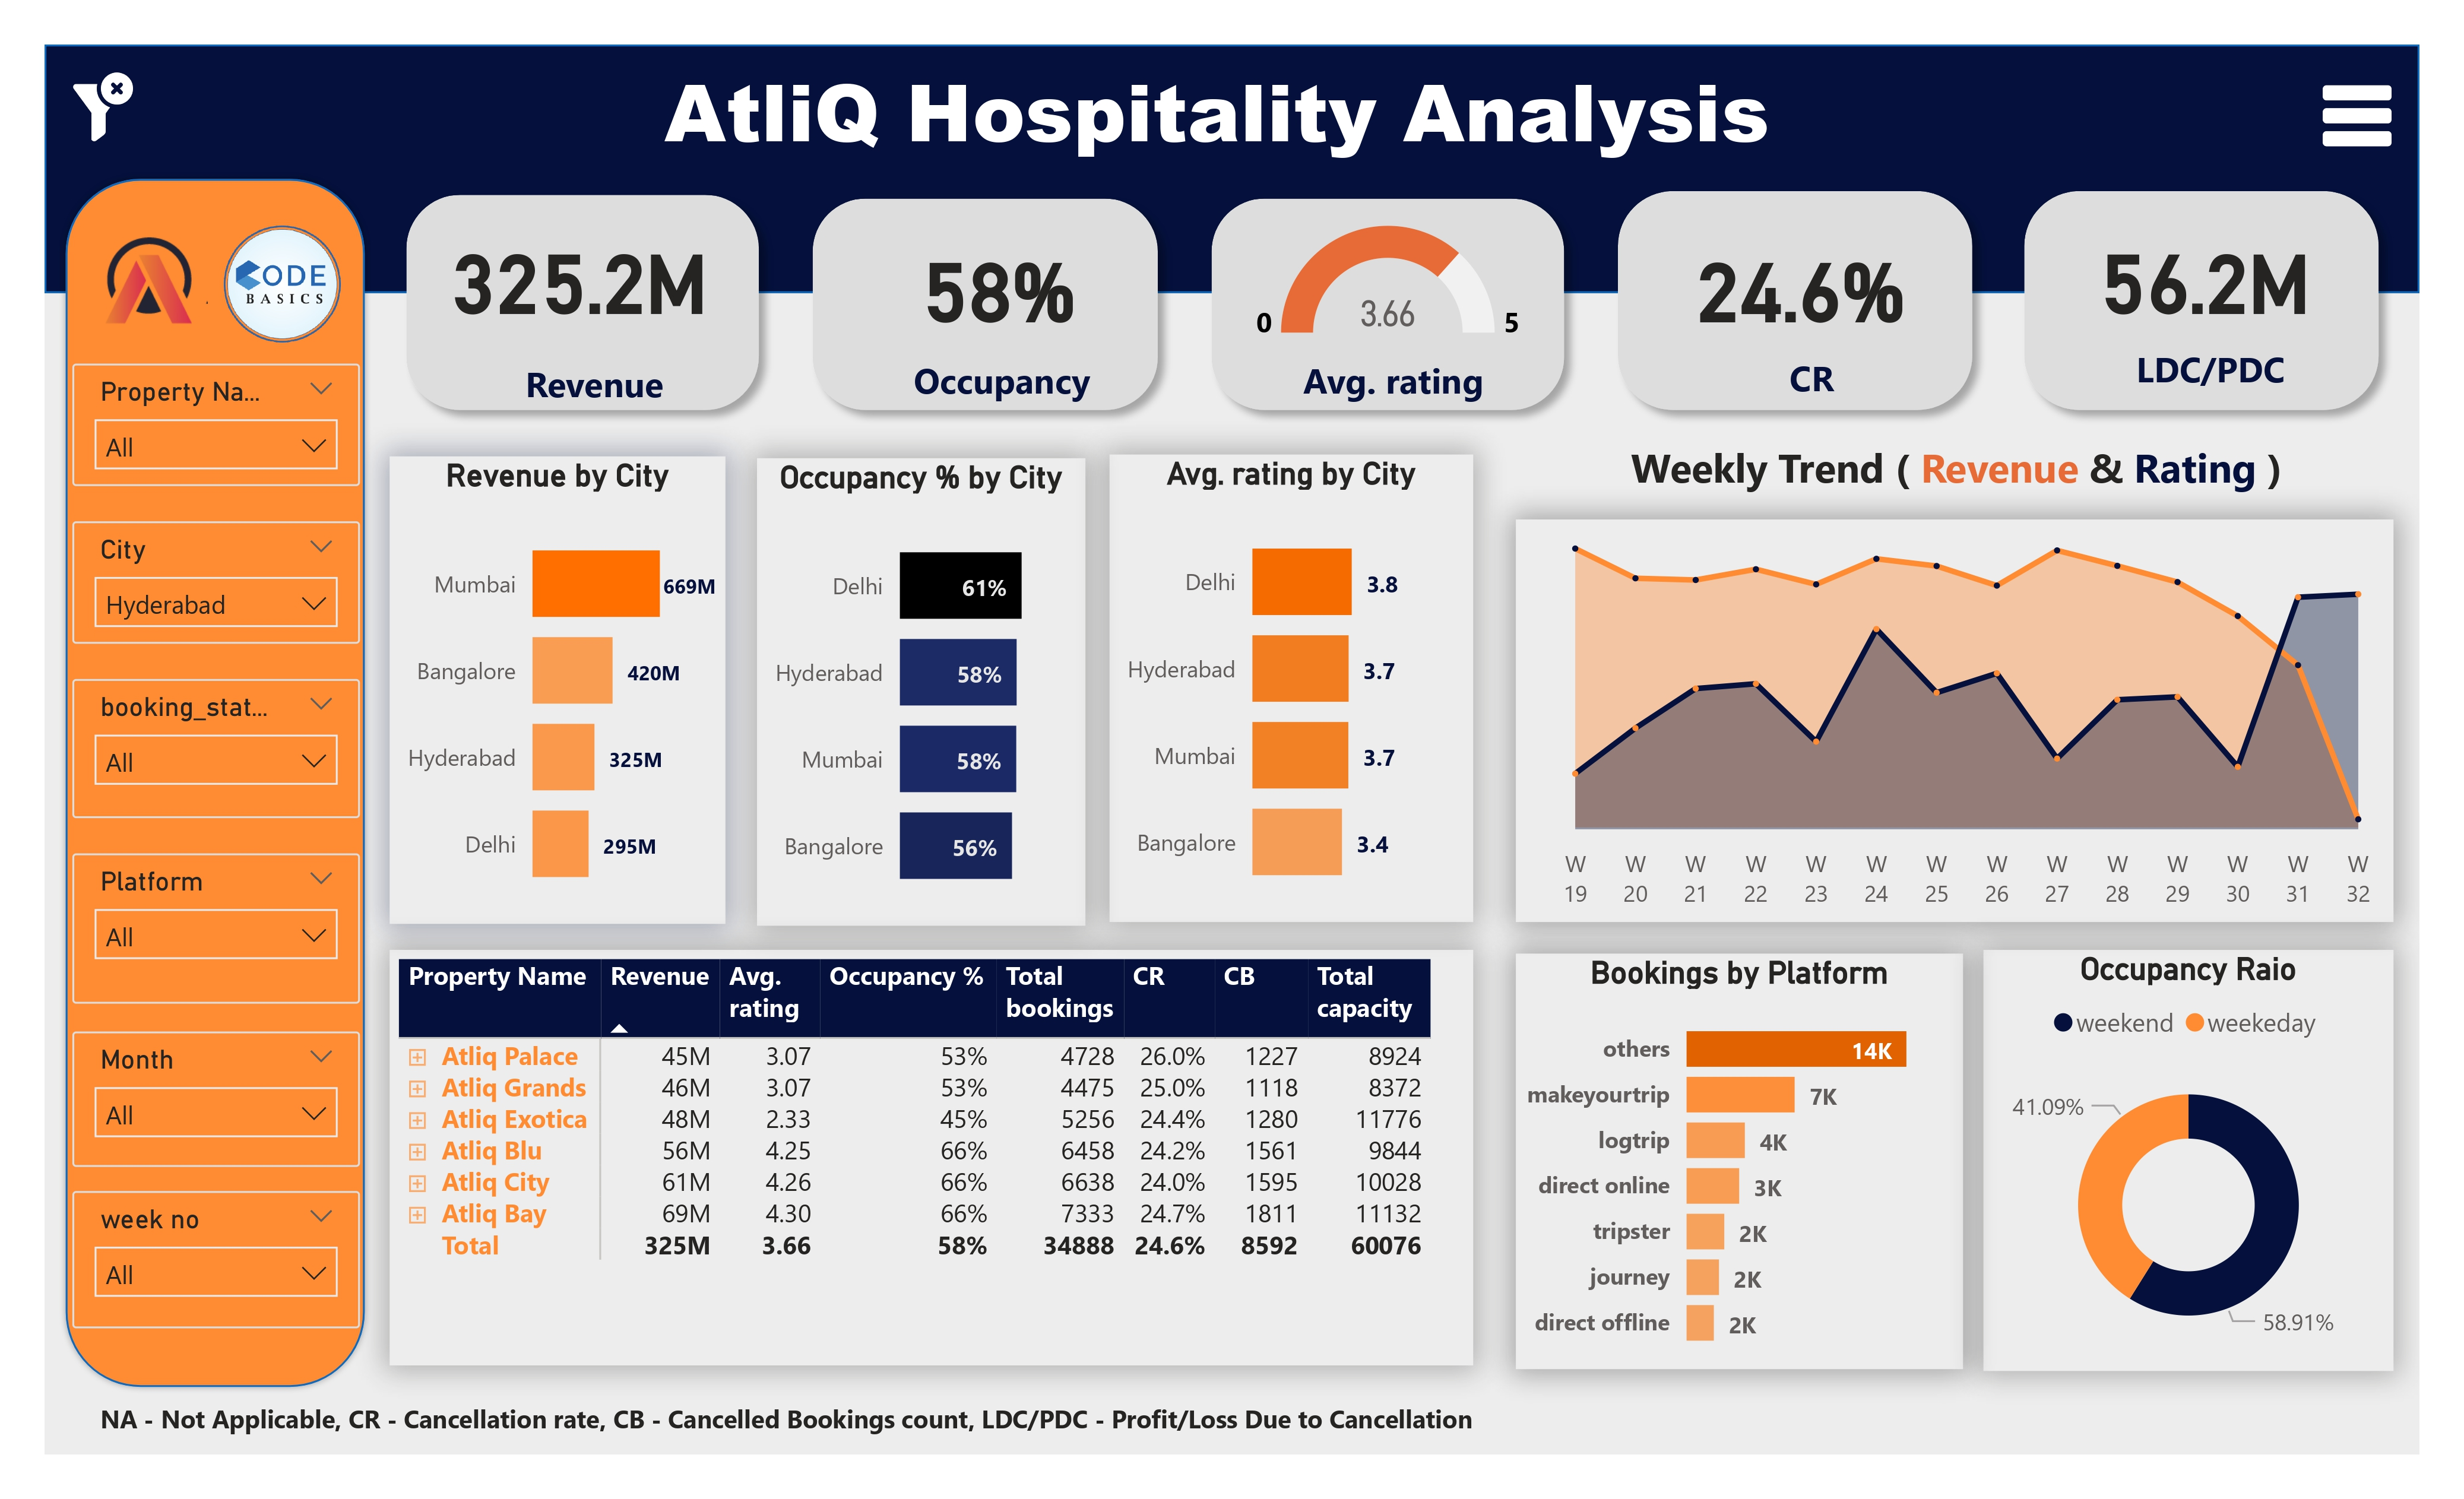

What the dashboard file says about the page in this screenshot:
{"tool":"powerbi","page":{"name":"Overall","canvas":[1280,760],"ordinal":0},"visuals":[{"type":"shape","box":[0,0,1280,134.4],"z":0},{"type":"textbox","box":[0,0,1278.1,75.7],"z":0,"group":"g1"},{"type":"group","id":"g1","title":"visuals","box":[0,0,1278.1,727],"z":1000},{"type":"shape","box":[1058.5,70.1,208.3,136.3],"z":1000,"group":"g1"},{"type":"shape","box":[839.3,70.1,208.3,136.3],"z":2000,"group":"g1"},{"type":"textbox","box":[443.5,163.2,145.1,44.5],"z":2000},{"type":"shape","box":[620.1,73.8,208.3,132.5],"z":3000,"group":"g1"},{"type":"textbox","box":[880.3,161.6,145.1,44.5],"z":3000},{"type":"shape","box":[404.7,73.8,204.5,132.5],"z":4000,"group":"g1"},{"type":"textbox","box":[1094.7,156.6,145.1,44.5],"z":4000},{"type":"textbox","box":[224.2,164.9,145.1,39.6],"z":5000},{"type":"clusteredBarChart","title":"Revenue by City","fields":{"Category":["dim_hotels.city"],"Y":["resource_measures.revenue"]},"box":[185.9,222.1,181,251.7],"z":5000,"group":"g1"},{"type":"card","fields":{"Values":["resource_measures.Occupancy %"]},"box":[454.4,96.6,119.3,64.4],"z":6000,"group":"g1"},{"type":"textbox","box":[654.5,163.2,145.1,44.5],"z":6000},{"type":"textbox","box":[802.3,207.8,456.5,48.5],"z":6500},{"type":"textbox","box":[24.7,727,1063.3,33],"z":6750},{"type":"clusteredBarChart","title":"Occupancy % by City","fields":{"Category":["dim_hotels.city"],"Y":["resource_measures.Occupancy %"]},"box":[384.1,222.6,176.4,252.2],"z":7000,"group":"g1"},{"type":"gauge","fields":{"MaxValue":["resource_measures.max.rating"],"MinValue":["resource_measures.min.rating"],"Y":["resource_measures.avg.rating mod"]},"box":[643,87.4,161.6,84.1],"z":8000,"group":"g1"},{"type":"clusteredBarChart","title":"Avg. rating by City","fields":{"Category":["dim_hotels.city"],"Y":["resource_measures.Avg. rating"]},"box":[573.7,220.9,196.2,252.2],"z":9000,"group":"g1"},{"type":"image","box":[7.6,4.5,47,57.6],"z":10000},{"type":"donutChart","title":"Occupancy Raio","fields":{"Category":["dim_date.day_type"],"Y":["resource_measures.Occupancy %"]},"box":[1045.2,488,220.9,227.5],"z":10000,"group":"g1"},{"type":"areaChart","title":"Weekly Trend (Revenue & Rating)","fields":{"Category":["dim_date.week no"],"Y2":["resource_measures.Avg. rating"],"Y":["resource_measures.revenue"]},"box":[793.2,256.3,473.2,216.9],"z":11000,"group":"g1"},{"type":"clusteredBarChart","title":"Bookings by Platform","fields":{"Category":["fact_bookings.booking_platform"],"Y":["resource_measures.Total bookings"]},"box":[793,489.6,240.7,224.2],"z":12000,"group":"g1"},{"type":"pivotTable","fields":{"Rows":["dim_hotels.property_name","dim_hotels.city"],"Values":["resource_measures.revenue","resource_measures.Avg. rating","resource_measures.Occupancy %","resource_measures.Total bookings","resource_measures.CR","resource_measures.Total cancelled bookings","resource_measures.Total capacity"]},"box":[186.3,488,583.6,224.2],"z":13000,"group":"g1"},{"type":"shape","box":[8.2,69.2,168.2,657.8],"z":14000,"group":"g1"},{"type":"slicer","fields":{"Values":["dim_date.week no"]},"box":[14.8,618.2,155,74.2],"z":15000,"group":"g1"},{"type":"slicer","fields":{"Values":["dim_date.mmm yy.Variation.Date Hierarchy.Month"]},"box":[14.8,532.5,155,72.5],"z":16000,"group":"g1"},{"type":"slicer","fields":{"Values":["fact_bookings.booking_platform"]},"box":[15.1,435.8,155.3,81.4],"z":17000,"group":"g1"},{"type":"slicer","fields":{"Values":["fact_bookings.booking_status"]},"box":[15.1,341.5,155.3,75.7],"z":18000,"group":"g1"},{"type":"slicer","fields":{"Values":["dim_hotels.city"]},"box":[15.1,256.7,155.3,66.3],"z":19000,"group":"g1"},{"type":"slicer","fields":{"Values":["dim_hotels.property_name"]},"box":[15.1,171.9,155.3,66.3],"z":20000,"group":"g1"},{"type":"card","fields":{"Values":["resource_measures.LDC"]},"box":[1088.6,87.4,150,74.2],"z":21000,"group":"g1"},{"type":"card","fields":{"Values":["resource_measures.CR"]},"box":[869.1,77.6,155.3,102.2],"z":22000,"group":"g1"},{"type":"shape","box":[185.6,72,208.3,134.4],"z":23000,"group":"g1"},{"type":"card","fields":{"Values":["resource_measures.revenue"]},"box":[206.7,87.4,163.2,74.2],"z":24000,"group":"g1"},{"type":"image","title":"atliq","box":[15.1,90.4,77.6,73.8],"z":25000,"group":"g1"},{"type":"image","title":"codebasics","box":[85.2,90.4,85.2,77.6],"z":26000,"group":"g1"},{"type":"image","title":"three dot menu","box":[1213.7,15.1,64.4,47.3],"z":27000,"group":"g1"}]}

Visuals, with their boxes on the page's 1280x760 design canvas (x1, y1, x2, y2). These are canvas units, not pixel positions in the 2464x1499 screenshot, which may show the page scaled, cropped or inside an application window:
shape: x1=0 y1=0 x2=1280 y2=134
textbox: x1=0 y1=0 x2=1278 y2=76
"visuals" group: x1=0 y1=0 x2=1278 y2=727
shape: x1=1058 y1=70 x2=1267 y2=206
shape: x1=839 y1=70 x2=1048 y2=206
textbox: x1=444 y1=163 x2=589 y2=208
shape: x1=620 y1=74 x2=828 y2=206
textbox: x1=880 y1=162 x2=1025 y2=206
shape: x1=405 y1=74 x2=609 y2=206
textbox: x1=1095 y1=157 x2=1240 y2=201
textbox: x1=224 y1=165 x2=369 y2=204
"Revenue by City" clusteredBarChart: x1=186 y1=222 x2=367 y2=474
card - resource_measures.Occupancy %: x1=454 y1=97 x2=574 y2=161
textbox: x1=654 y1=163 x2=800 y2=208
textbox: x1=802 y1=208 x2=1259 y2=256
textbox: x1=25 y1=727 x2=1088 y2=760
"Occupancy % by City" clusteredBarChart: x1=384 y1=223 x2=560 y2=475
gauge - resource_measures.max.rating x resource_measures.min.rating: x1=643 y1=87 x2=805 y2=172
"Avg. rating by City" clusteredBarChart: x1=574 y1=221 x2=770 y2=473
image: x1=8 y1=4 x2=55 y2=62
"Occupancy Raio" donutChart: x1=1045 y1=488 x2=1266 y2=716
"Weekly Trend (Revenue & Rating)" areaChart: x1=793 y1=256 x2=1266 y2=473
"Bookings by Platform" clusteredBarChart: x1=793 y1=490 x2=1034 y2=714
pivotTable - dim_hotels.property_name x dim_hotels.city: x1=186 y1=488 x2=770 y2=712
shape: x1=8 y1=69 x2=176 y2=727
slicer - dim_date.week no: x1=15 y1=618 x2=170 y2=692
slicer - dim_date.mmm yy.Variation.Date Hierarchy.Month: x1=15 y1=532 x2=170 y2=605
slicer - fact_bookings.booking_platform: x1=15 y1=436 x2=170 y2=517
slicer - fact_bookings.booking_status: x1=15 y1=342 x2=170 y2=417
slicer - dim_hotels.city: x1=15 y1=257 x2=170 y2=323
slicer - dim_hotels.property_name: x1=15 y1=172 x2=170 y2=238
card - resource_measures.LDC: x1=1089 y1=87 x2=1239 y2=162
card - resource_measures.CR: x1=869 y1=78 x2=1024 y2=180
shape: x1=186 y1=72 x2=394 y2=206
card - resource_measures.revenue: x1=207 y1=87 x2=370 y2=162
"atliq" image: x1=15 y1=90 x2=93 y2=164
"codebasics" image: x1=85 y1=90 x2=170 y2=168
"three dot menu" image: x1=1214 y1=15 x2=1278 y2=62
